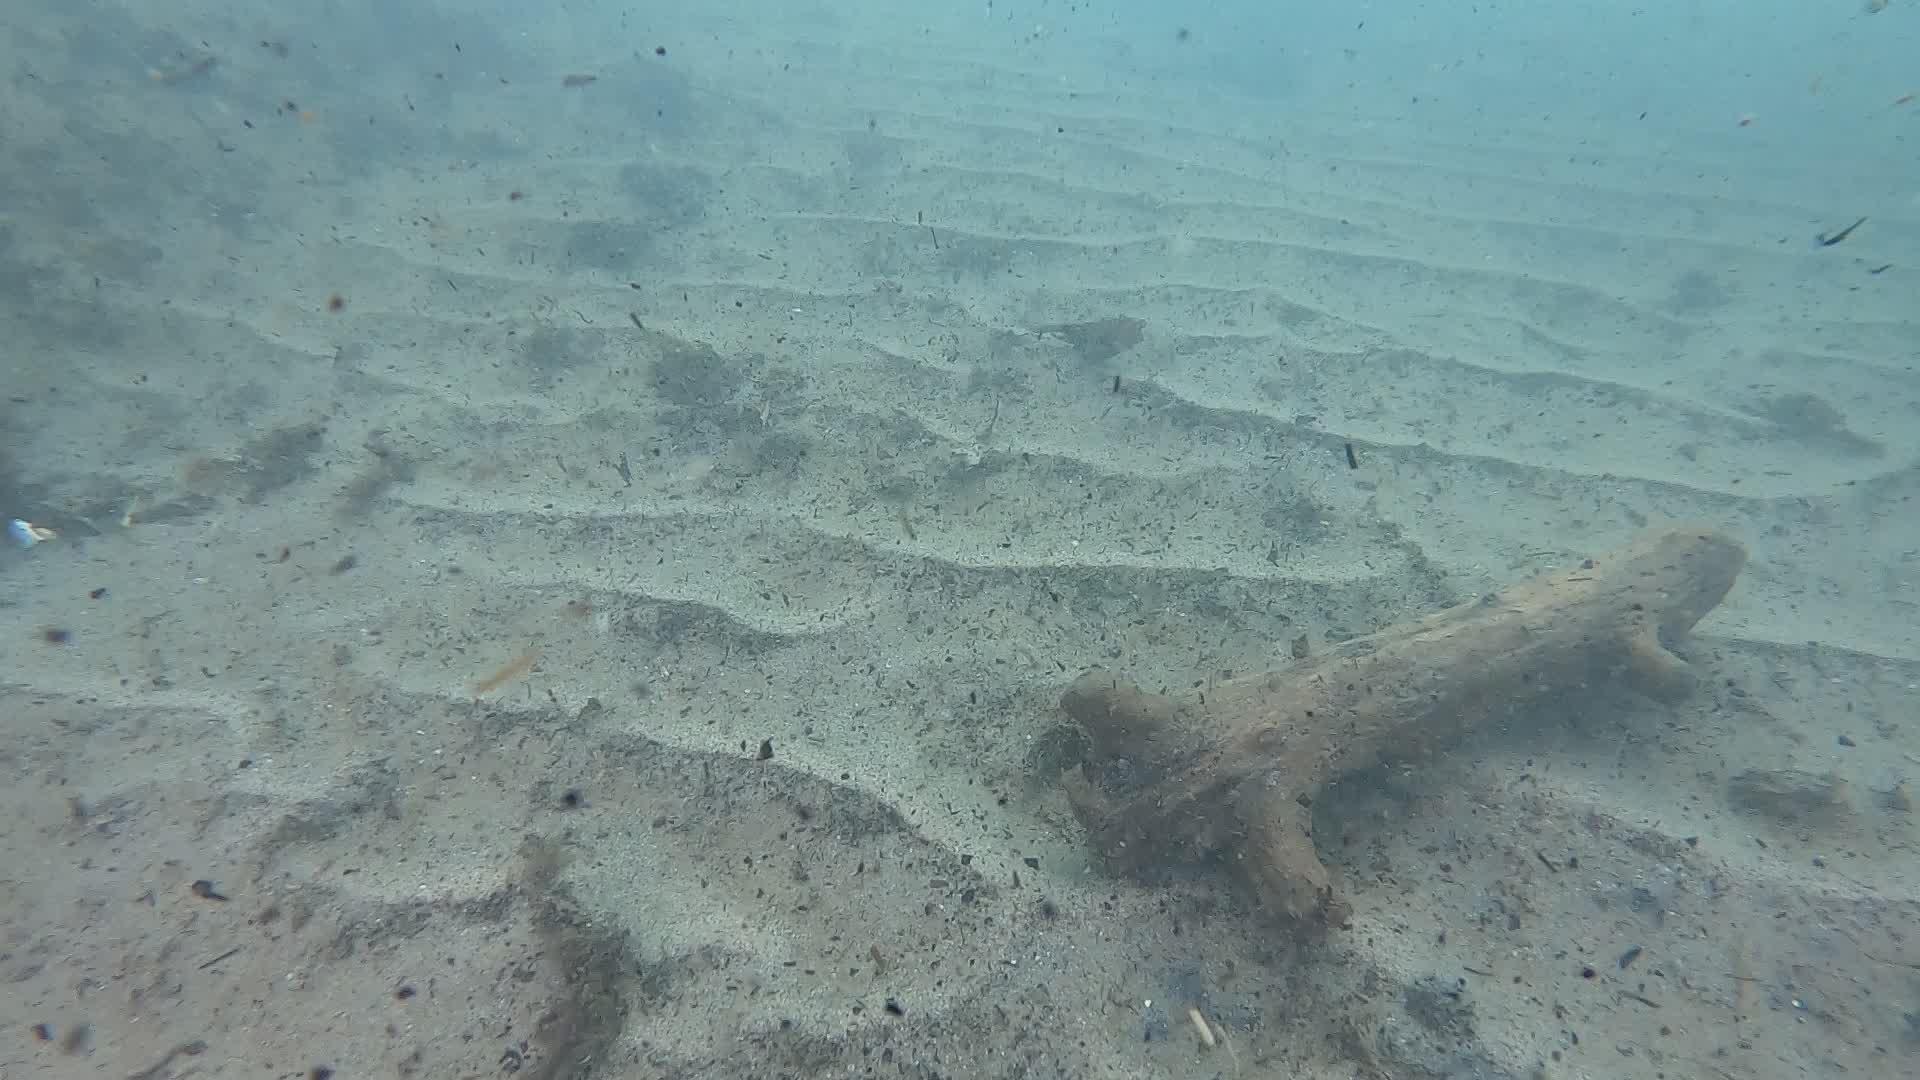wood: (1056, 525, 1745, 926)
